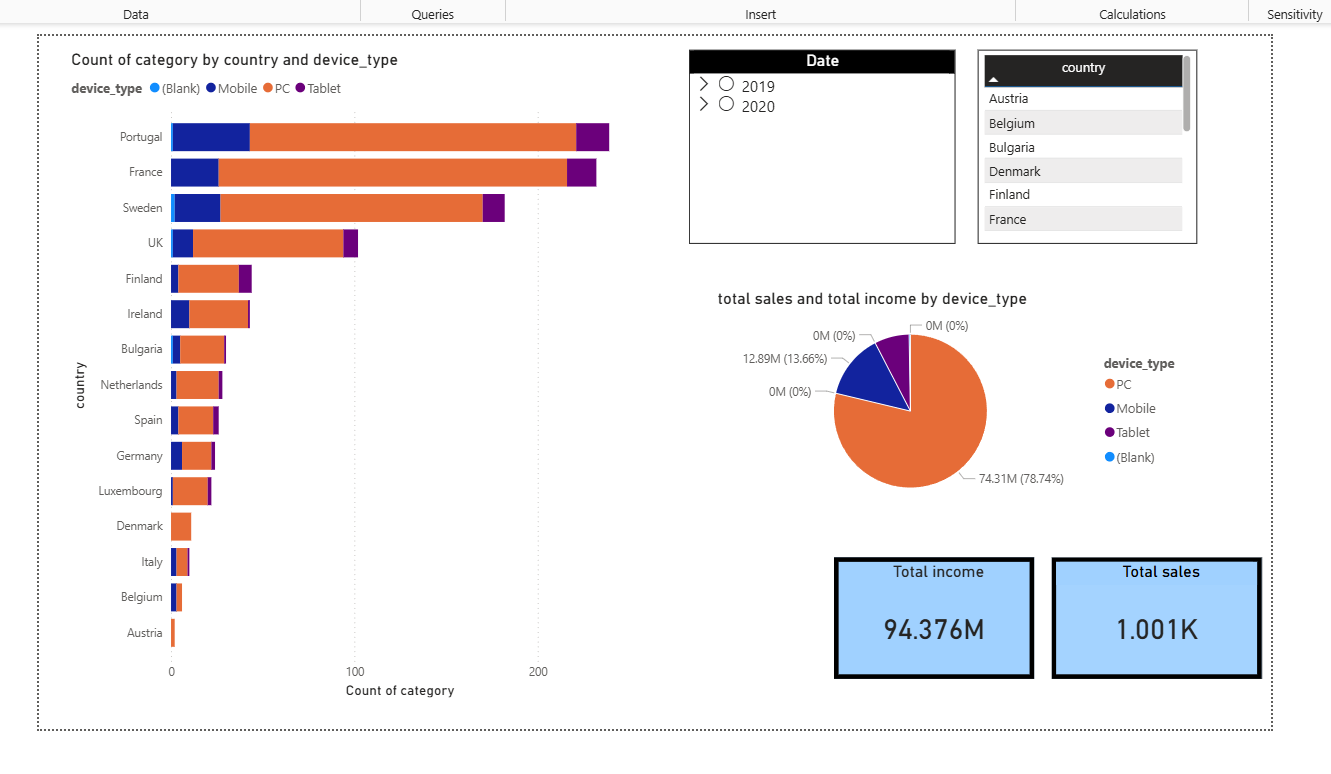

The page's visual inventory and layout, read from the dashboard file:
{"tool":"powerbi","page":{"name":"Page 1","canvas":[1280,720],"ordinal":0},"visuals":[{"type":"card","title":"Total sales","fields":{"Values":["sales data.total sales"]},"box":[1051.6,542.2,218.8,126.6],"z":0},{"type":"tableEx","fields":{"Values":["sales data.country"]},"box":[975,14.1,228.1,201.6],"z":1000},{"type":"barChart","fields":{"Y":["CountNonNull(sales data.category)"],"Series":["sales data.device_type"],"Category":["sales data.country"]},"box":[28.1,14.1,600,678.1],"z":1001},{"type":"card","title":"Total income","fields":{"Values":["sales data.total income"]},"box":[826.6,542.2,207.8,126.6],"z":1002},{"type":"listSlicer","title":"Date","fields":{"Values":["sales data.date.Variation.Date Hierarchy.Year","sales data.date.Variation.Date Hierarchy.Month"]},"box":[675,14.1,276.6,201.6],"z":1003},{"type":"pieChart","fields":{"Y":["sales data.total sales","sales data.total income"],"Category":["sales data.device_type"]},"box":[700,262.5,503.1,235.9],"z":1004}]}

Visuals, with their boxes on the page's 1280x720 design canvas (x1, y1, x2, y2). These are canvas units, not pixel positions in the 1331x774 screenshot, which may show the page scaled, cropped or inside an application window:
"Total sales" card: Rect(1052, 542, 1270, 669)
tableEx - sales data.country: Rect(975, 14, 1203, 216)
barChart - CountNonNull(sales data.category) x sales data.device_type: Rect(28, 14, 628, 692)
"Total income" card: Rect(827, 542, 1034, 669)
"Date" listSlicer: Rect(675, 14, 952, 216)
pieChart - sales data.total sales x sales data.total income: Rect(700, 262, 1203, 498)
